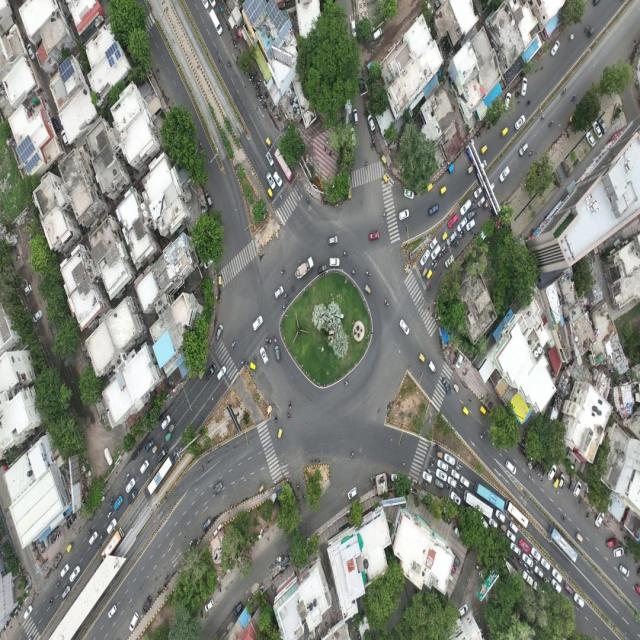3W: (565, 476, 575, 495), (65, 537, 75, 555), (574, 530, 584, 546), (477, 401, 487, 416), (363, 281, 372, 297), (417, 350, 427, 364), (498, 520, 508, 534), (438, 181, 447, 196), (168, 420, 178, 433), (480, 142, 489, 156), (500, 125, 509, 139), (277, 421, 283, 441), (248, 360, 258, 372), (216, 272, 224, 287), (151, 442, 160, 455), (164, 430, 173, 443), (567, 113, 576, 126), (587, 26, 596, 39), (425, 268, 433, 282), (552, 476, 560, 490), (434, 448, 444, 459), (440, 231, 449, 243), (461, 405, 470, 417), (265, 135, 272, 150), (381, 153, 388, 168), (258, 481, 266, 494), (382, 172, 390, 185), (426, 181, 434, 194), (267, 186, 274, 200), (421, 266, 428, 280), (448, 162, 455, 175), (466, 166, 474, 177), (483, 201, 490, 210)
Bus: (145, 450, 176, 498), (547, 525, 579, 565), (471, 479, 507, 514), (101, 525, 127, 566), (460, 492, 495, 522), (502, 496, 531, 530), (272, 144, 296, 184)
Cars: (209, 474, 224, 497), (142, 590, 154, 617), (128, 609, 140, 635), (265, 167, 277, 193), (68, 562, 82, 584), (251, 311, 265, 333), (156, 442, 169, 463), (504, 458, 518, 477), (232, 598, 244, 620), (105, 516, 118, 536), (398, 317, 411, 337), (397, 204, 410, 223), (498, 165, 511, 184), (346, 485, 359, 504), (112, 494, 125, 512), (143, 436, 156, 454), (401, 183, 414, 201), (513, 112, 526, 130), (420, 246, 431, 267), (60, 582, 72, 601), (126, 488, 138, 507), (126, 476, 138, 495), (272, 169, 284, 188), (585, 132, 597, 151), (460, 198, 472, 217), (443, 452, 458, 467), (449, 491, 462, 508), (107, 600, 118, 620), (139, 456, 150, 476), (206, 362, 217, 382), (597, 114, 608, 134), (441, 376, 452, 396), (428, 200, 440, 218), (456, 216, 468, 234), (546, 462, 558, 480), (215, 322, 225, 343), (367, 227, 381, 242), (594, 510, 605, 529), (618, 562, 631, 578), (573, 592, 586, 608), (494, 508, 507, 524), (202, 598, 215, 614), (504, 89, 513, 112), (200, 515, 212, 532), (446, 230, 458, 247), (551, 566, 563, 583), (510, 541, 522, 558), (259, 346, 269, 366), (205, 188, 215, 208), (349, 15, 357, 40), (432, 242, 442, 262), (572, 479, 582, 499), (592, 121, 603, 139), (59, 562, 71, 578), (87, 530, 99, 546), (160, 414, 172, 430), (273, 284, 285, 300), (372, 26, 384, 42), (447, 213, 459, 229), (53, 551, 63, 570), (531, 545, 542, 562), (518, 538, 531, 552), (436, 458, 449, 472), (273, 343, 282, 363), (265, 150, 275, 168), (550, 579, 562, 594), (534, 563, 544, 581), (436, 468, 451, 480), (23, 604, 34, 620), (216, 366, 227, 382), (349, 126, 357, 148), (352, 107, 360, 129), (518, 141, 529, 157), (367, 113, 376, 132), (550, 40, 560, 57), (445, 253, 455, 270), (454, 352, 464, 369), (328, 255, 341, 268), (606, 535, 618, 549), (488, 517, 500, 531), (459, 475, 471, 489), (317, 260, 328, 275), (522, 552, 533, 567), (447, 475, 458, 490), (450, 466, 461, 481), (521, 75, 528, 98), (558, 471, 566, 491), (564, 581, 574, 597), (326, 234, 339, 246), (434, 477, 446, 490), (467, 207, 478, 221), (466, 218, 477, 232), (422, 470, 433, 484), (540, 556, 550, 571), (357, 74, 364, 94), (506, 529, 516, 543), (509, 519, 518, 534), (613, 547, 624, 559), (429, 237, 438, 250), (200, 0, 209, 11), (474, 187, 481, 200), (477, 197, 485, 208)
LCV: (206, 5, 225, 39), (522, 569, 536, 588)
M2W: (480, 424, 488, 438), (526, 147, 535, 158), (476, 430, 485, 441), (295, 476, 301, 492), (272, 410, 278, 426), (546, 119, 554, 130), (146, 468, 154, 478), (288, 283, 296, 293), (48, 595, 55, 606), (366, 267, 372, 279), (344, 377, 350, 389), (286, 411, 292, 423), (124, 472, 131, 482), (230, 340, 237, 350), (384, 296, 389, 310), (350, 448, 355, 462), (287, 398, 292, 412), (65, 520, 71, 531), (198, 139, 204, 150), (226, 58, 232, 69), (136, 447, 143, 456), (304, 196, 311, 205), (263, 340, 269, 350), (266, 101, 272, 111), (278, 192, 284, 202), (571, 93, 577, 103), (444, 480, 450, 490), (164, 570, 169, 582), (240, 358, 247, 366), (254, 90, 262, 97), (457, 232, 464, 240), (578, 492, 582, 506), (303, 493, 307, 507), (54, 580, 60, 589), (280, 267, 286, 276), (350, 267, 356, 276), (539, 113, 545, 122), (561, 87, 567, 96), (36, 553, 41, 563), (585, 24, 590, 34), (471, 199, 476, 209), (469, 228, 476, 235), (110, 501, 116, 509), (282, 291, 288, 299), (454, 240, 460, 248), (441, 250, 447, 258), (560, 515, 566, 523), (622, 534, 628, 542), (524, 562, 530, 570), (422, 479, 428, 487), (189, 537, 193, 549), (97, 543, 102, 552), (528, 473, 533, 482), (434, 441, 439, 450), (364, 158, 368, 169), (106, 511, 112, 518), (287, 295, 293, 302), (537, 472, 543, 479), (617, 540, 623, 547), (528, 553, 534, 560), (518, 560, 524, 567), (454, 463, 460, 470), (431, 457, 438, 463), (425, 468, 431, 475), (32, 545, 37, 553), (68, 518, 73, 526), (87, 528, 92, 536), (273, 336, 278, 344), (281, 302, 286, 310), (258, 96, 263, 104), (263, 90, 268, 98), (382, 210, 387, 218), (370, 144, 375, 152), (526, 99, 531, 107), (462, 231, 467, 239), (445, 246, 450, 254), (433, 262, 438, 270), (426, 284, 431, 292), (459, 482, 464, 490), (40, 548, 46, 554), (55, 531, 58, 543), (110, 496, 114, 505), (266, 337, 270, 346), (342, 250, 348, 256), (483, 121, 487, 130), (515, 84, 519, 93), (456, 486, 460, 495), (428, 462, 434, 468), (232, 42, 237, 49), (437, 253, 442, 260), (431, 260, 436, 267), (529, 567, 534, 574), (512, 554, 517, 561), (586, 510, 589, 521), (268, 336, 272, 344), (253, 82, 257, 90), (540, 464, 544, 472), (50, 536, 53, 546), (52, 533, 55, 543), (58, 530, 61, 540), (100, 534, 105, 540), (265, 95, 270, 101), (451, 241, 456, 247), (534, 462, 539, 468), (543, 468, 546, 478), (625, 546, 628, 556), (526, 570, 531, 576), (533, 558, 538, 564), (515, 555, 521, 560), (272, 105, 276, 112), (476, 133, 480, 140), (520, 445, 523, 454), (530, 455, 533, 464), (258, 79, 262, 85), (257, 86, 260, 94), (261, 101, 264, 109), (274, 112, 278, 118), (516, 94, 520, 100), (461, 228, 465, 234), (442, 246, 446, 252), (522, 446, 524, 458), (73, 514, 76, 521), (250, 79, 255, 83), (255, 84, 258, 90), (249, 77, 253, 81), (265, 104, 267, 112)
Truck: (292, 250, 315, 284)
